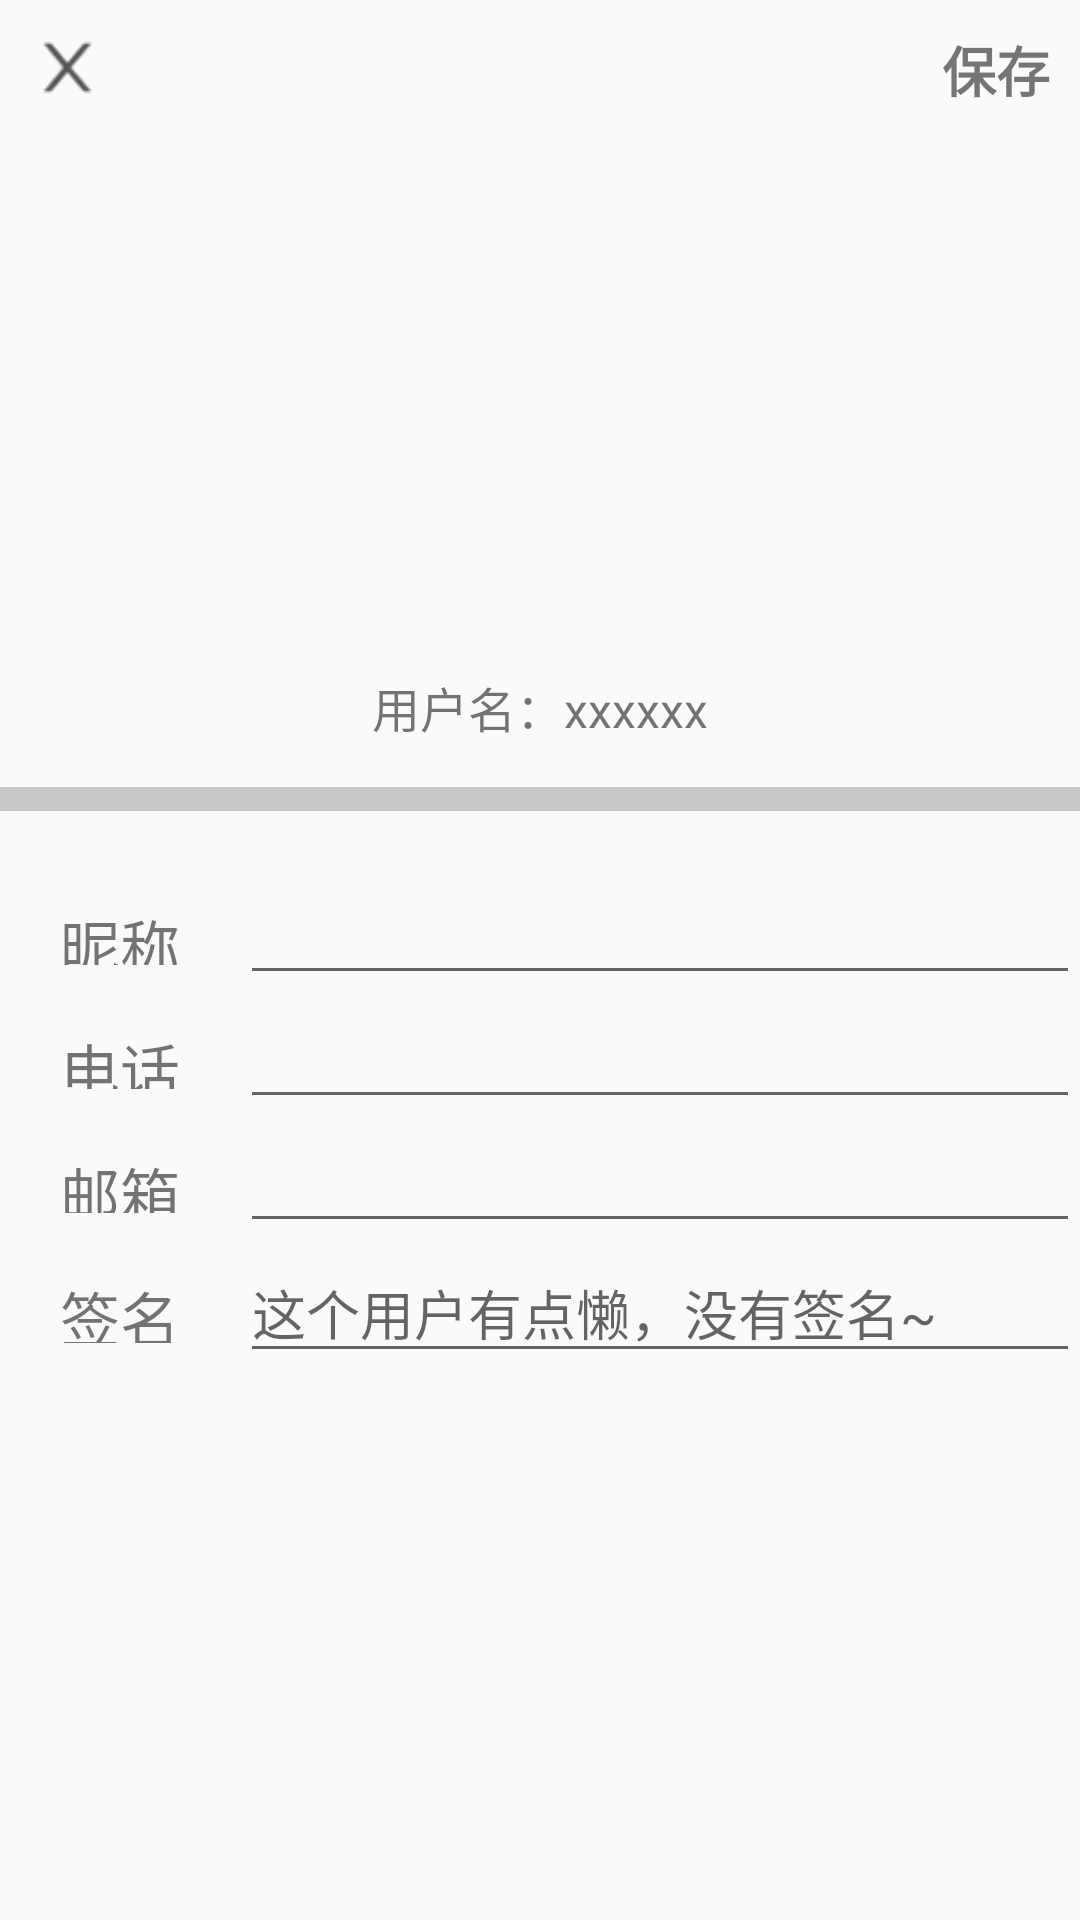

Named icons in this screenshot (1080px×1920px) and their bounding boxes, (x1, y1, x2, y2):
close: (44, 42, 91, 93)
